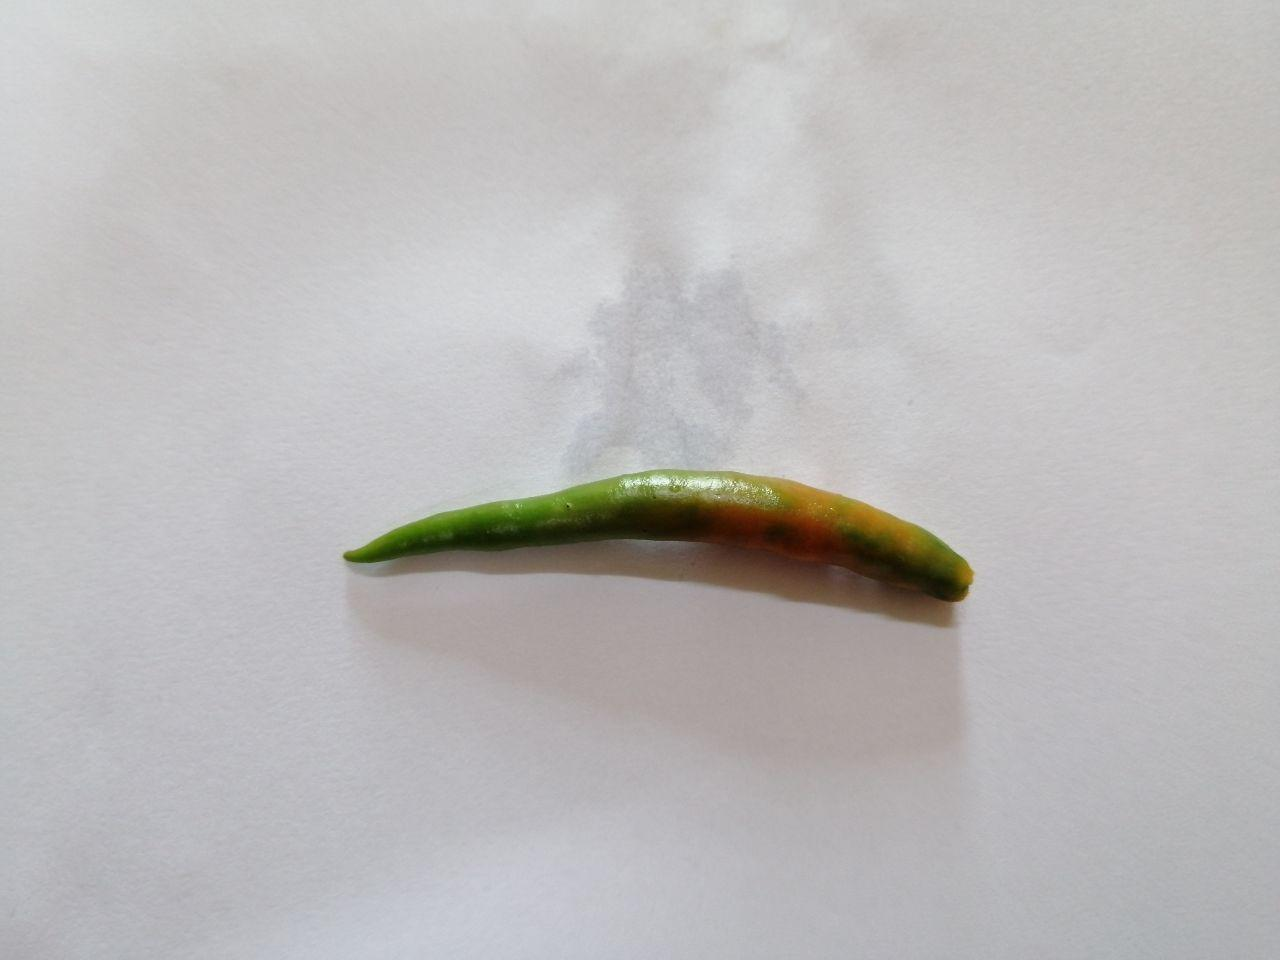lada kuning: (319, 450, 988, 636)
